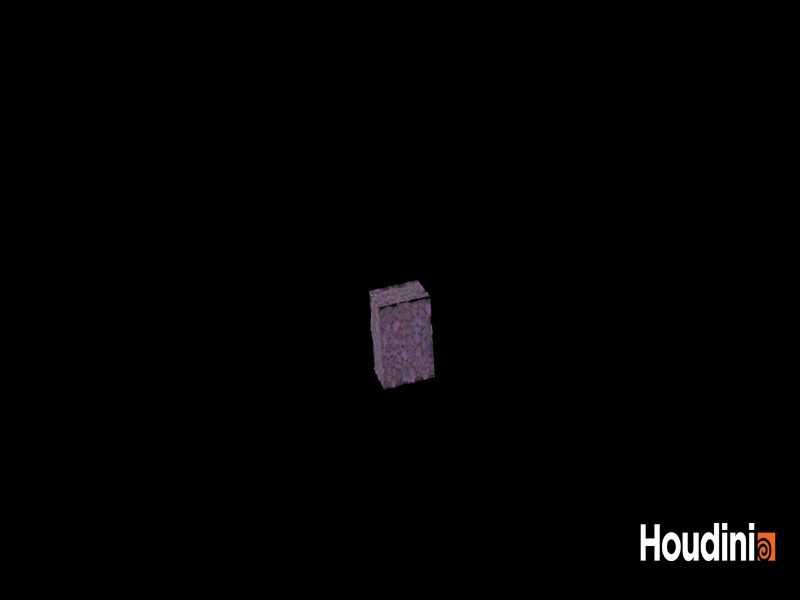waste: (360, 276, 446, 391)
